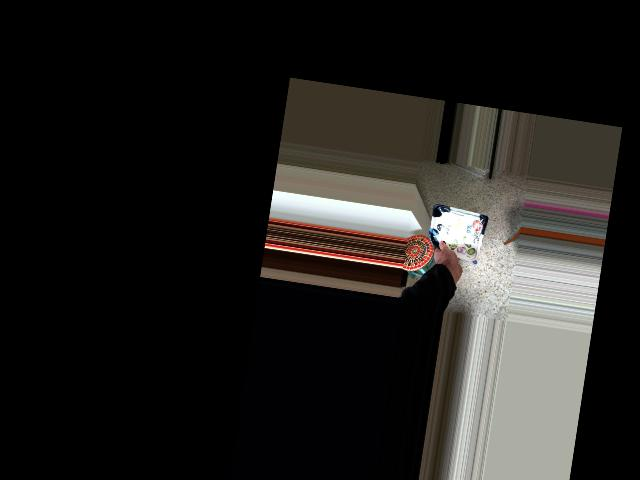cheese: (421, 214, 485, 283)
